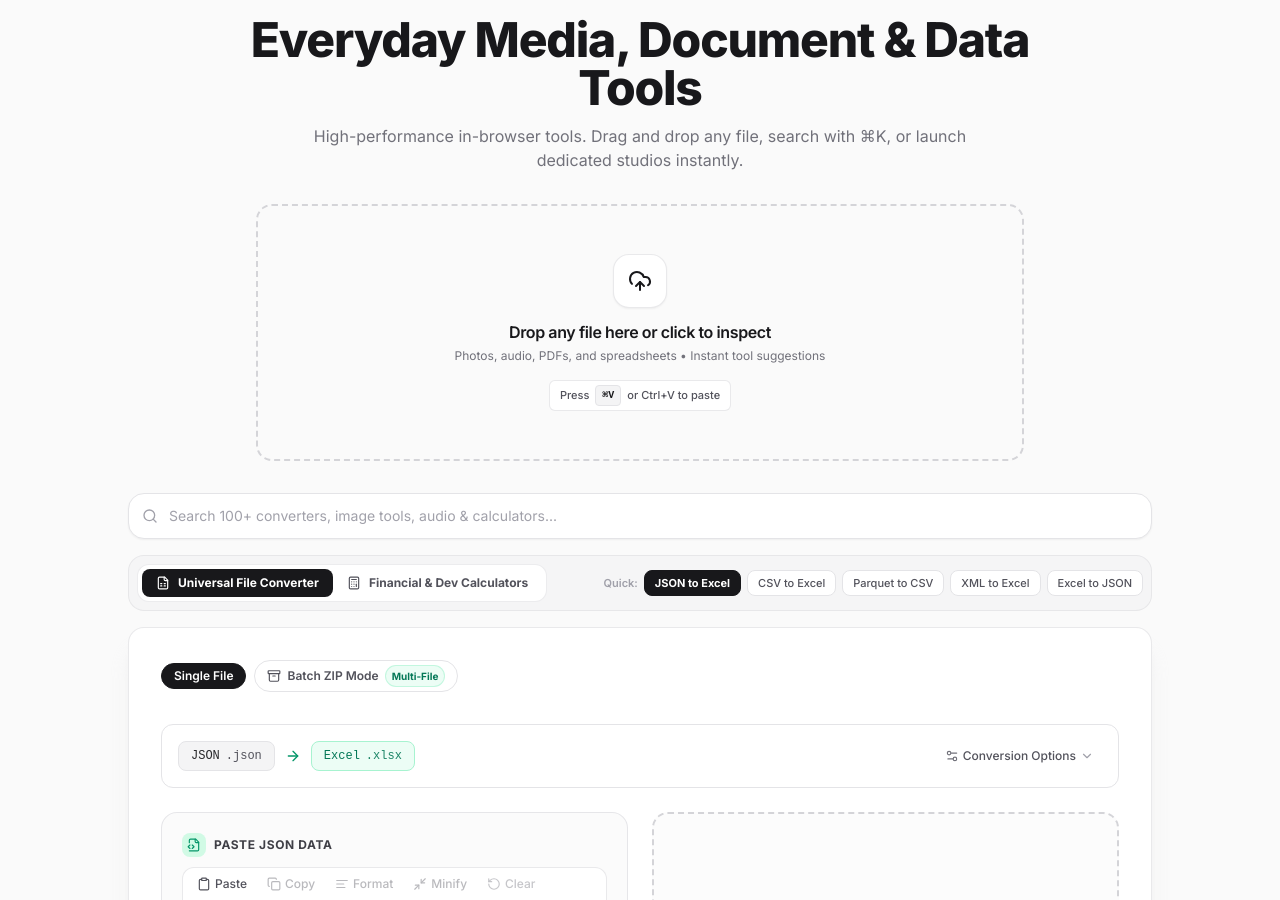
HomeCommandHero › filters tools and converters when query is typed into the search bar
// Type query
Type "mortgage" into the field with placeholder "Search 100+ converters, image tools, audio & calculators...".
click(640, 516); type("mortgage")  # box [128,493,1152,539]
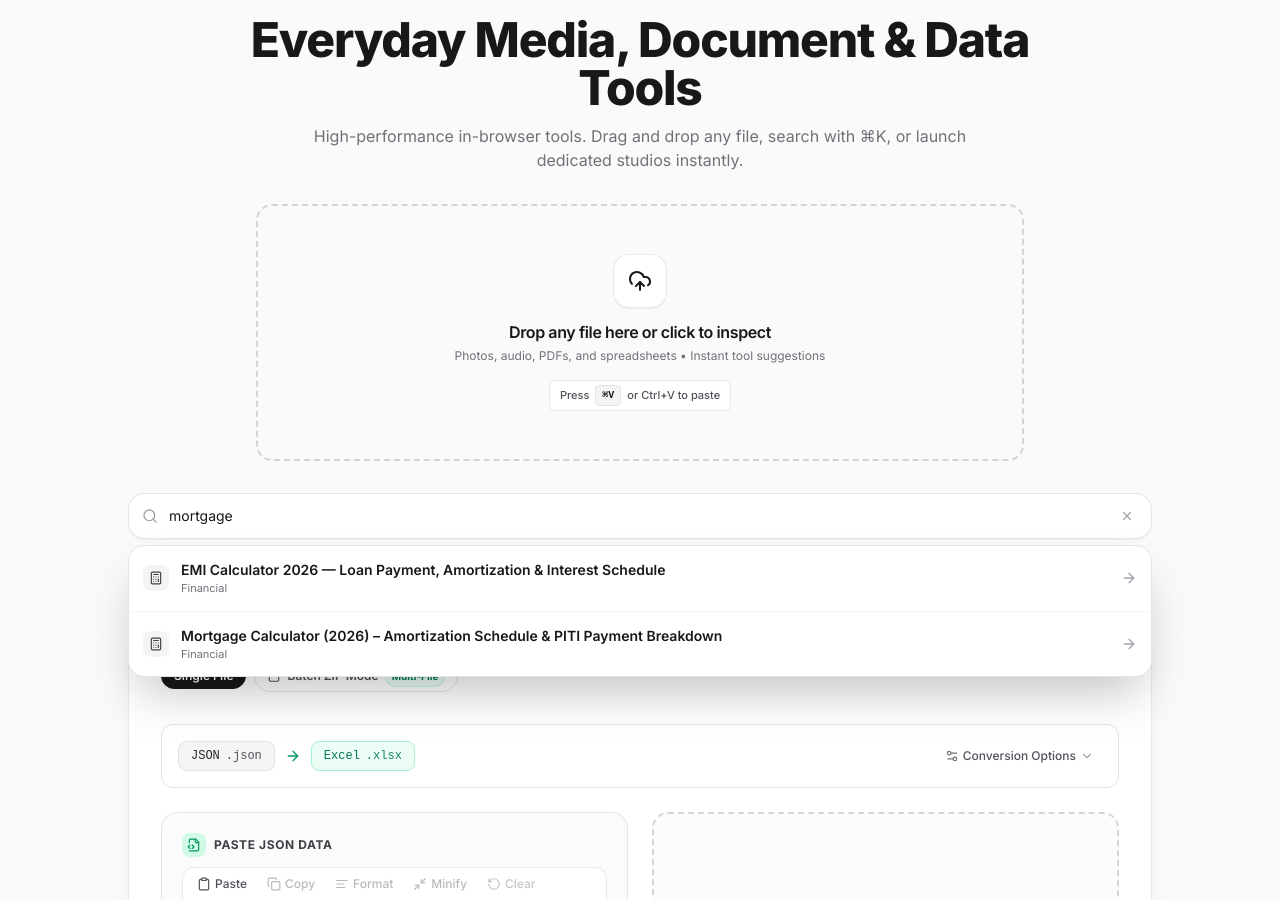
expect the text "Mortgage Calculator" is shown: met, box [181,626,722,644]
// Clear search with X button
Click the button named "Clear search".
click(1127, 516)  # box [1116,505,1138,527]
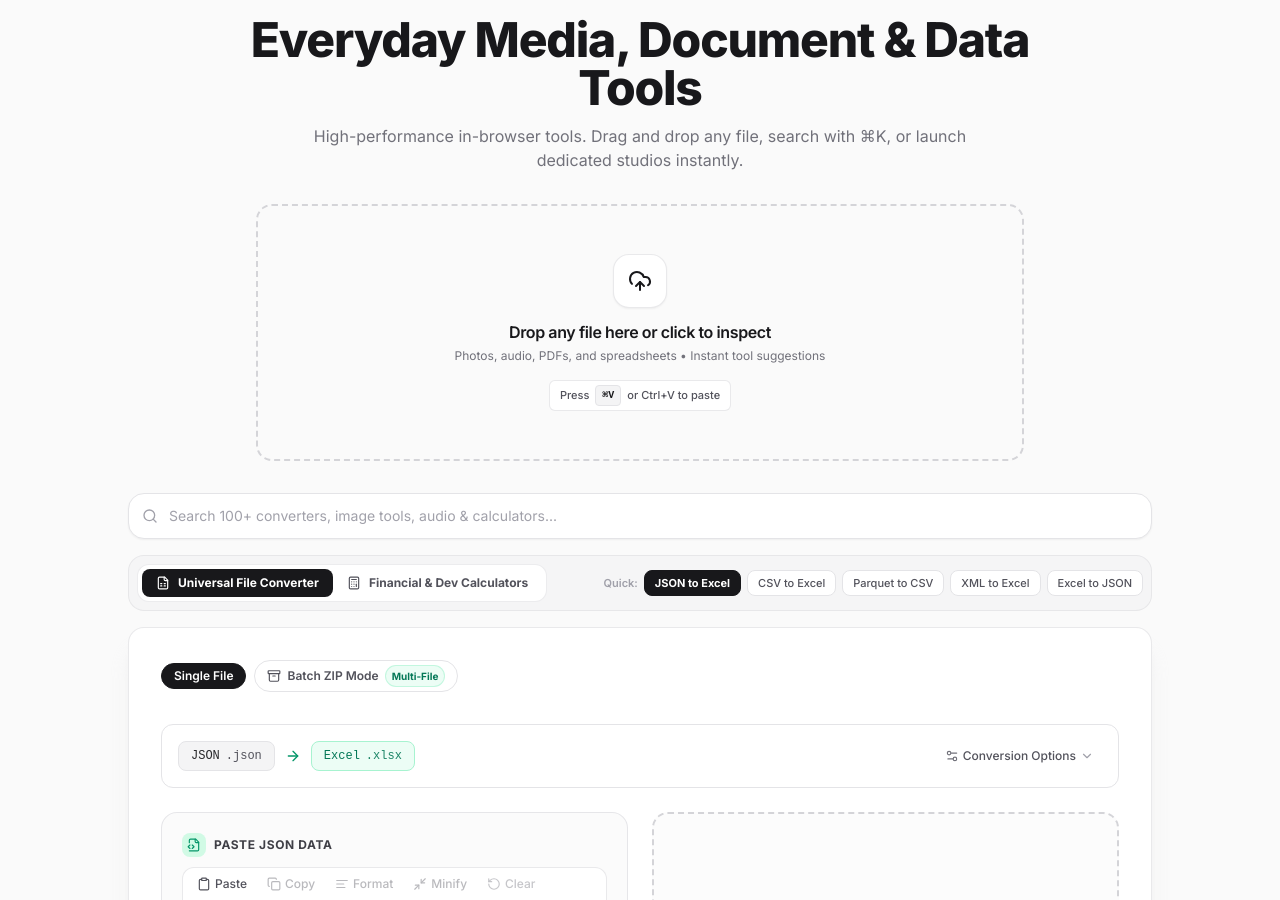
expect the field with placeholder "Search 100+ converters, image tools, audio & calculators..." is empty: met, box [128,493,1152,539]
expect the link "Mortgage Calculator" is gone: met
